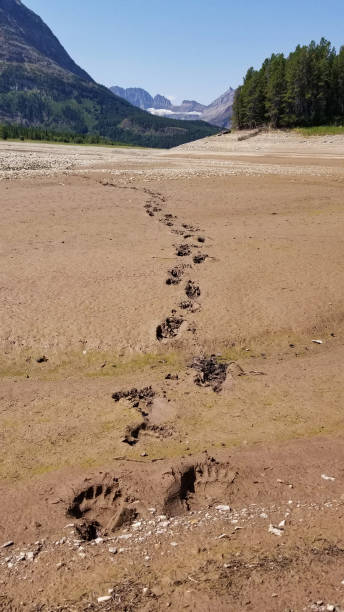human_foot_print: (60, 477, 134, 536), (168, 456, 230, 520), (120, 364, 167, 434), (164, 304, 194, 366), (202, 347, 237, 389), (157, 267, 187, 304), (182, 274, 214, 306), (174, 240, 206, 272)
